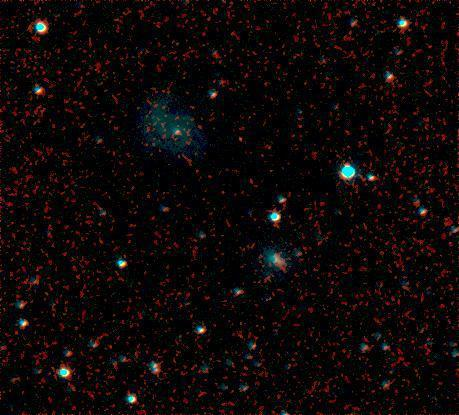star: (223, 130, 253, 160)
